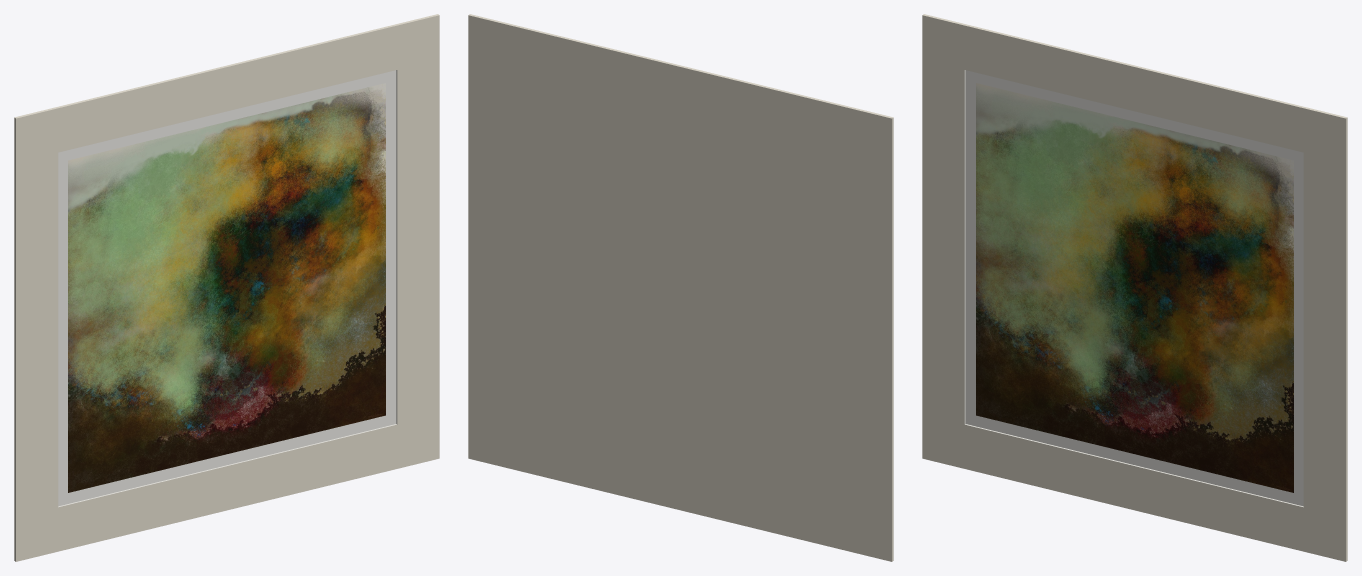
Rendered from va316_moyen_passe-partout.glb.
The picture shows the model from 3 angles, left to right: view 1: azimuth 30°, elevation 25°; view 2: azimuth 150°, elevation 25°; view 3: azimuth 330°, elevation 25°; orthographic projection.
Visible parts, largest first — view 1: va316_moyen_passe-partout; view 2: va316_moyen_passe-partout; view 3: va316_moyen_passe-partout.
Part boxes in pixels (x1,y1,x2,y2): va316_moyen_passe-partout: (14,14,439,561); va316_moyen_passe-partout: (468,14,893,561); va316_moyen_passe-partout: (922,14,1347,561).
Size of the model in its own units: 0.8 by 0.8 by 0.0055.
4 materials, 1 textured.
